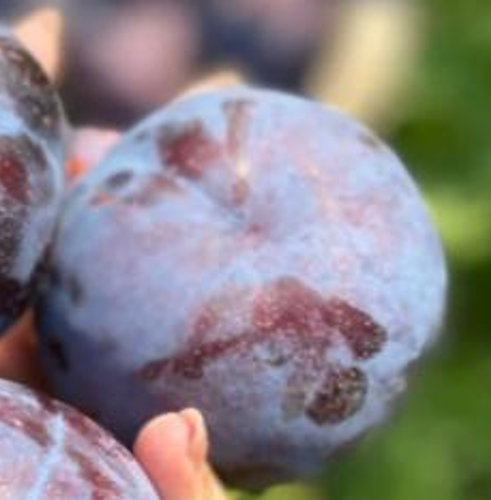plum_A: (37, 84, 447, 488)
